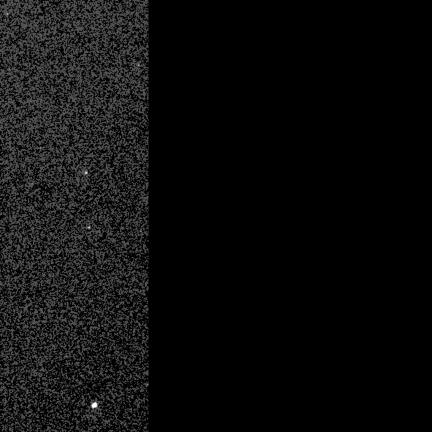blob: (92, 403, 97, 408), (87, 226, 91, 230), (85, 171, 88, 175), (138, 64, 141, 67)
